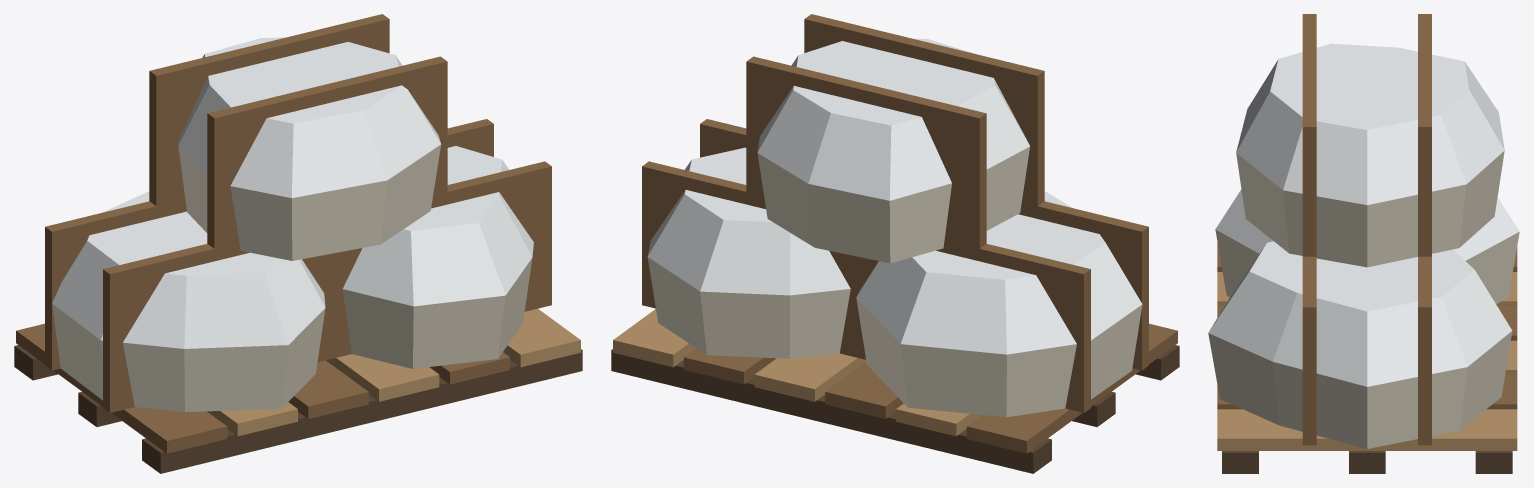
Rendered from quay-stack-wool.glb.
The picture shows the model from 3 angles, left to right: view 1: azimuth 30°, elevation 25°; view 2: azimuth 150°, elevation 25°; view 3: azimuth 270°, elevation 25°; orthographic projection.
Parts seen in each view (by area): view 1: quay-stack-wool; view 2: quay-stack-wool; view 3: quay-stack-wool.
Part boxes in pixels (bbox=[...]): quay-stack-wool: bbox=[14, 14, 582, 473]; quay-stack-wool: bbox=[611, 14, 1179, 473]; quay-stack-wool: bbox=[1208, 14, 1519, 473].
Size of the model in its own units: 2.29 by 1.44 by 1.35.
Materials: 1 (1 with a texture image).
